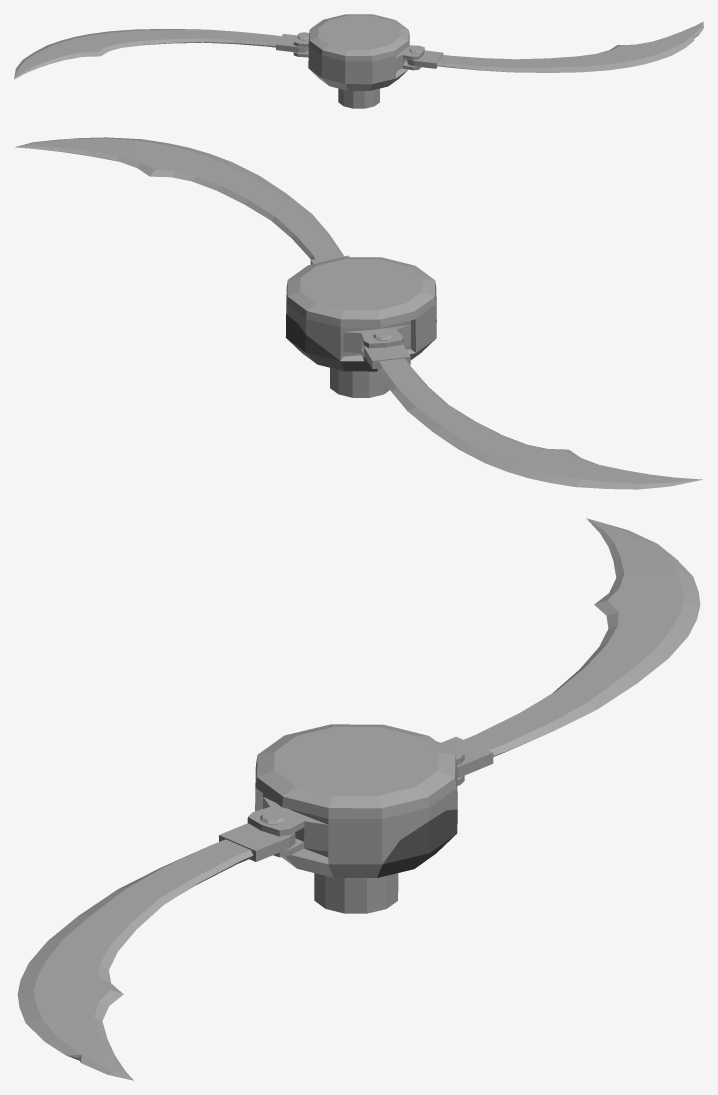
File: GNDEBladeSpinning_1.fbx
The picture shows the model from 3 angles, top to bottom: view 1: azimuth 30°, elevation 25°; view 2: azimuth 150°, elevation 25°; view 3: azimuth 270°, elevation 25°; orthographic projection. The views are drawn at different scales.
Parts seen in each view (by area): view 1: GNDEBladeSpinning_1; view 2: GNDEBladeSpinning_1; view 3: GNDEBladeSpinning_1.
Part boxes in pixels (<box>): GNDEBladeSpinning_1: <box>14,14,703,108</box>; GNDEBladeSpinning_1: <box>15,137,702,489</box>; GNDEBladeSpinning_1: <box>17,518,700,1080</box>.
Size of the model in its own units: 293 by 32.74 by 150.
